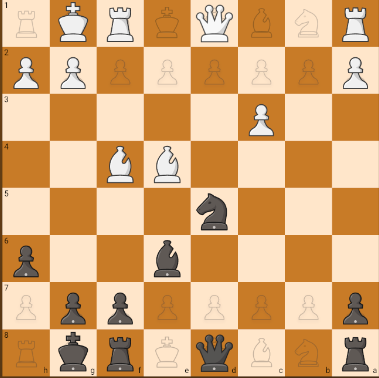bb: (145, 234, 187, 281)
bk: (51, 329, 95, 374)
bn: (193, 189, 236, 235)
bp: (52, 0, 94, 44), (334, 287, 375, 328), (5, 240, 46, 277), (54, 288, 90, 327), (101, 289, 138, 326)
bq: (191, 331, 236, 375), (101, 143, 137, 184)
br: (335, 334, 378, 376), (99, 333, 142, 374)
wb: (149, 143, 184, 185)
wp: (3, 53, 47, 92), (54, 50, 91, 92), (241, 100, 279, 138), (339, 56, 374, 91)
wq: (196, 0, 235, 44)
wr: (98, 3, 142, 45), (336, 3, 377, 45)
